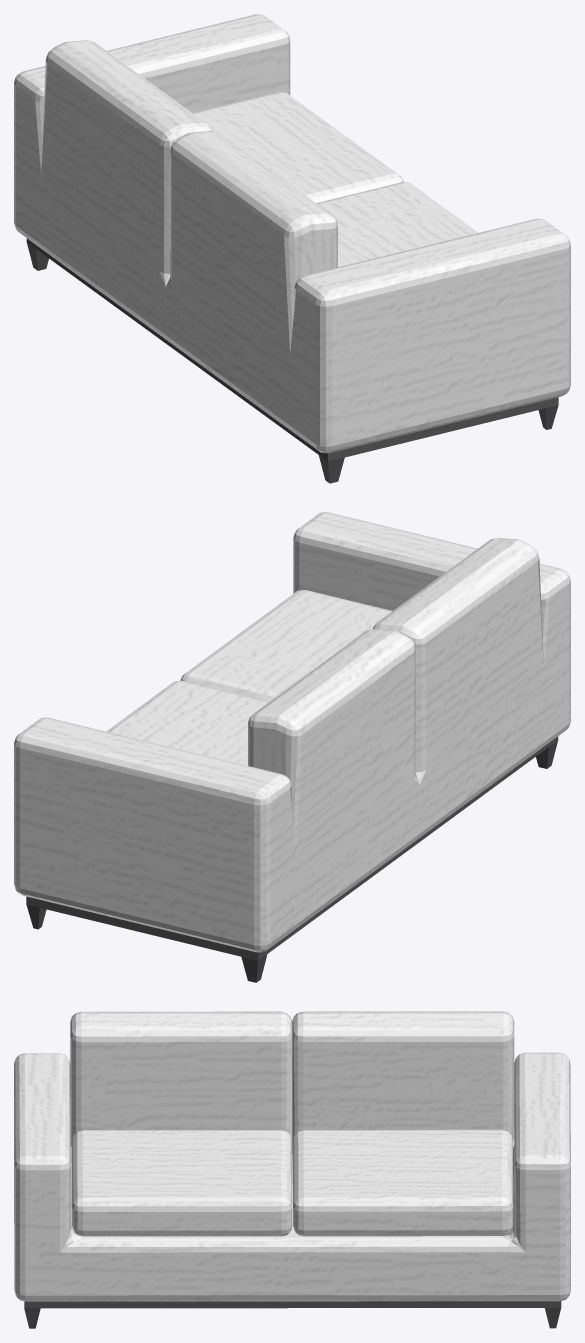
Rendered from safa02.fbx.
3 renders of one model, top to bottom at view 1: azimuth 30°, elevation 25°; view 2: azimuth 150°, elevation 25°; view 3: azimuth 270°, elevation 25°, orthographic. The views are drawn at different scales.
Visible parts, largest first — view 1: safa_2; view 2: safa_2; view 3: safa_2.
Part boxes in pixels (<box>): safa_2: <box>14,14,570,483</box>; safa_2: <box>14,512,570,982</box>; safa_2: <box>14,1011,570,1328</box>.
Size of the model in its own units: 91.38 by 84.05 by 193.
Materials: 2 (2 with a texture image).
